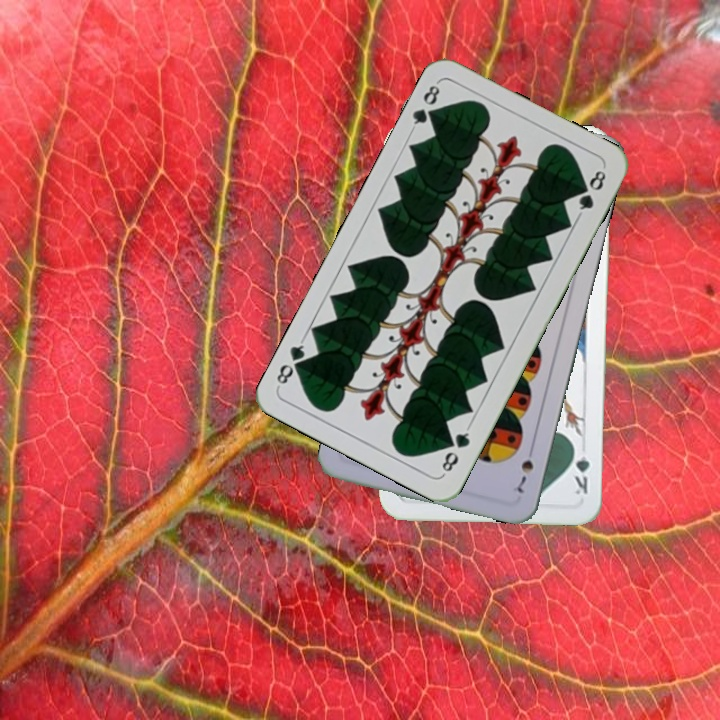G8: (407, 78, 443, 133), (437, 423, 473, 477)
GK: (570, 440, 593, 497)
S7: (513, 441, 537, 496)
